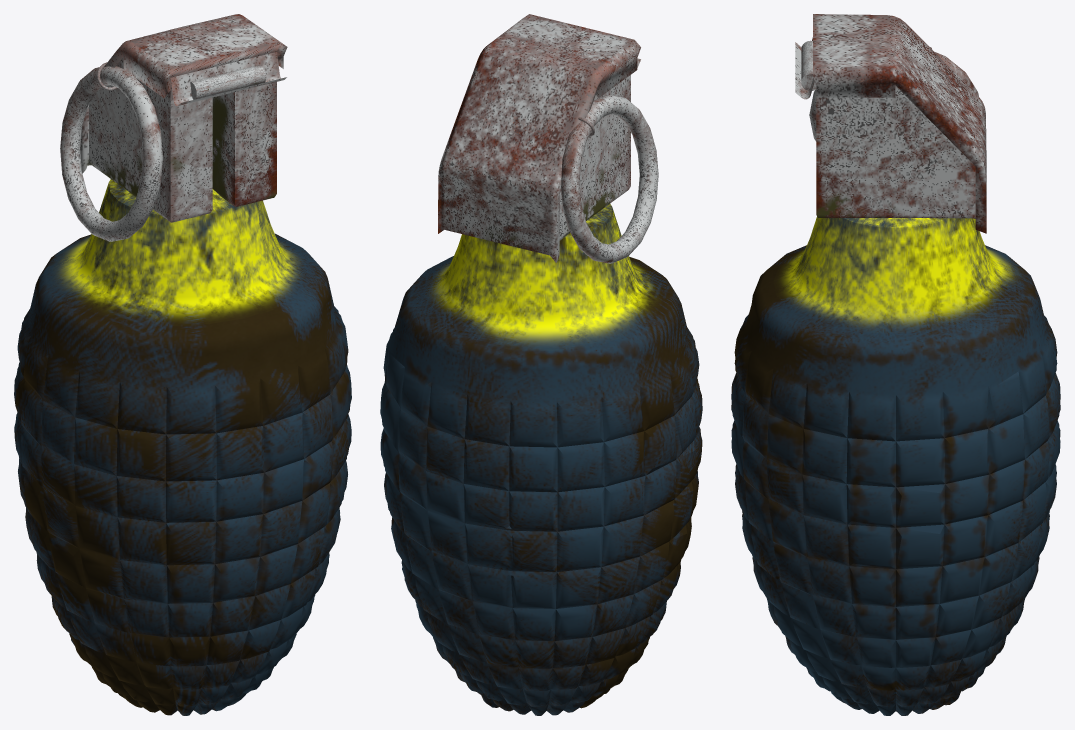
3 views of the same model, side by side, from view 1: azimuth 30°, elevation 25°; view 2: azimuth 150°, elevation 25°; view 3: azimuth 270°, elevation 25° (orthographic). The views are drawn at different scales.
Parts seen in each view (by area): view 1: body, top, Pull tabs; view 2: body, top, Pull tabs; view 3: body, top, Pull tabs.
Part boxes in pixels (<box>): body: <box>14,179,351,715</box>; top: <box>80,14,287,222</box>; Pull tabs: <box>60,62,162,241</box>; body: <box>380,204,702,715</box>; top: <box>438,14,640,262</box>; Pull tabs: <box>561,95,658,263</box>; body: <box>731,216,1060,715</box>; top: <box>795,14,986,233</box>; Pull tabs: <box>809,47,978,141</box>.
Bounding box in the file's own units: 0.4496 × 1 × 0.4496.
Materials: 3 (3 with a texture image).
